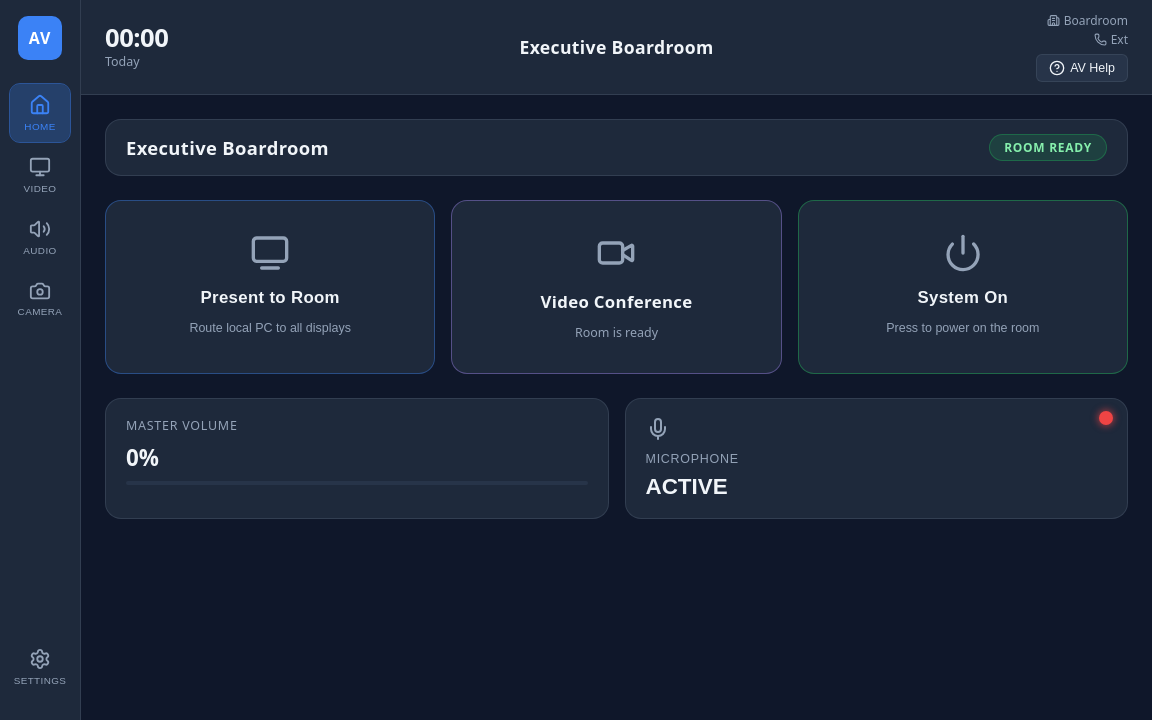
Test: App – Settings drawer › renders the BYOD toggles inside the drawer
Click the button "Settings": (40, 667) [10, 638, 70, 696]
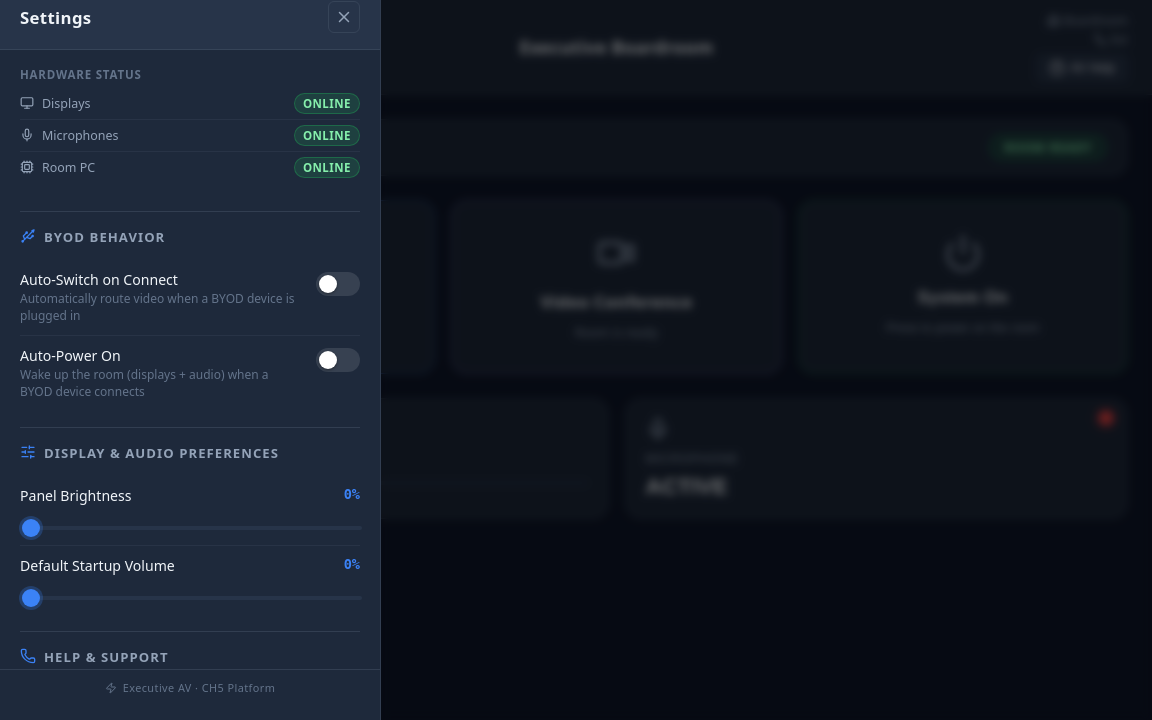
Check: the switch named "Auto-Switch on Connect" is shown, box [316, 272, 360, 296]
Check: the switch named "Auto-Power On" is shown, box [316, 348, 360, 372]
